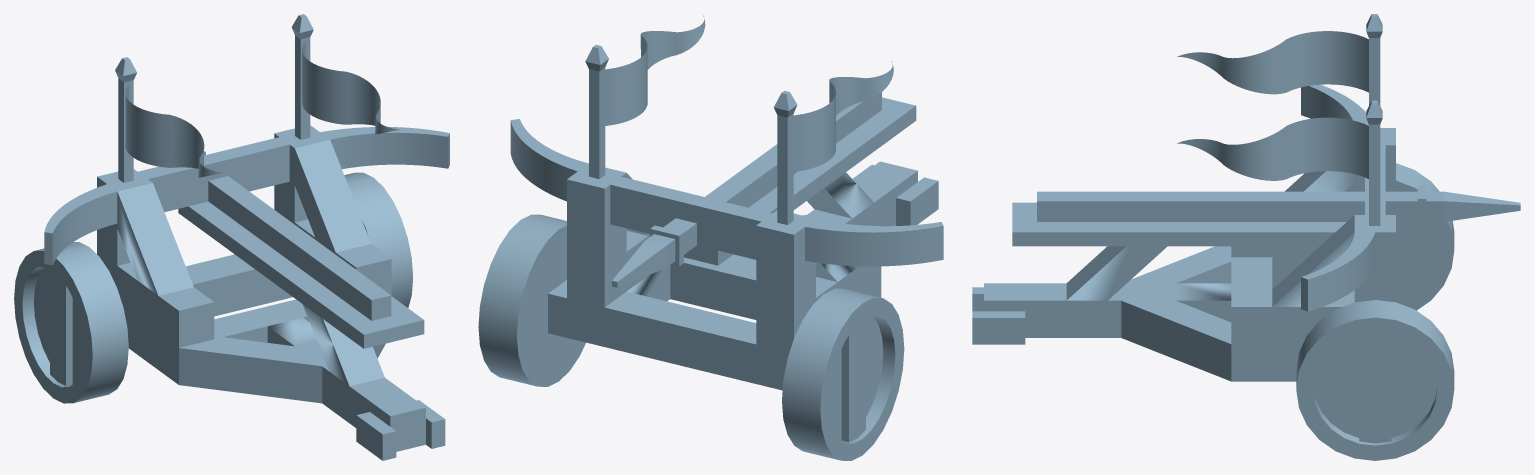
File: siegeBallista_8angles.fbx
3 views of the same model, side by side, from view 1: azimuth 30°, elevation 25°; view 2: azimuth 150°, elevation 25°; view 3: azimuth 270°, elevation 25° (orthographic). The views are drawn at different scales.
Parts seen in each view (by area): view 1: siegeBallista_8angles; view 2: siegeBallista_8angles; view 3: siegeBallista_8angles.
Boxes of the visible parts, box(x1,y1,x2,y2) form: siegeBallista_8angles: box(14, 14, 449, 460); siegeBallista_8angles: box(478, 15, 943, 460); siegeBallista_8angles: box(972, 14, 1520, 460).
Bounding box in the file's own units: 1198 × 910 × 1396.
